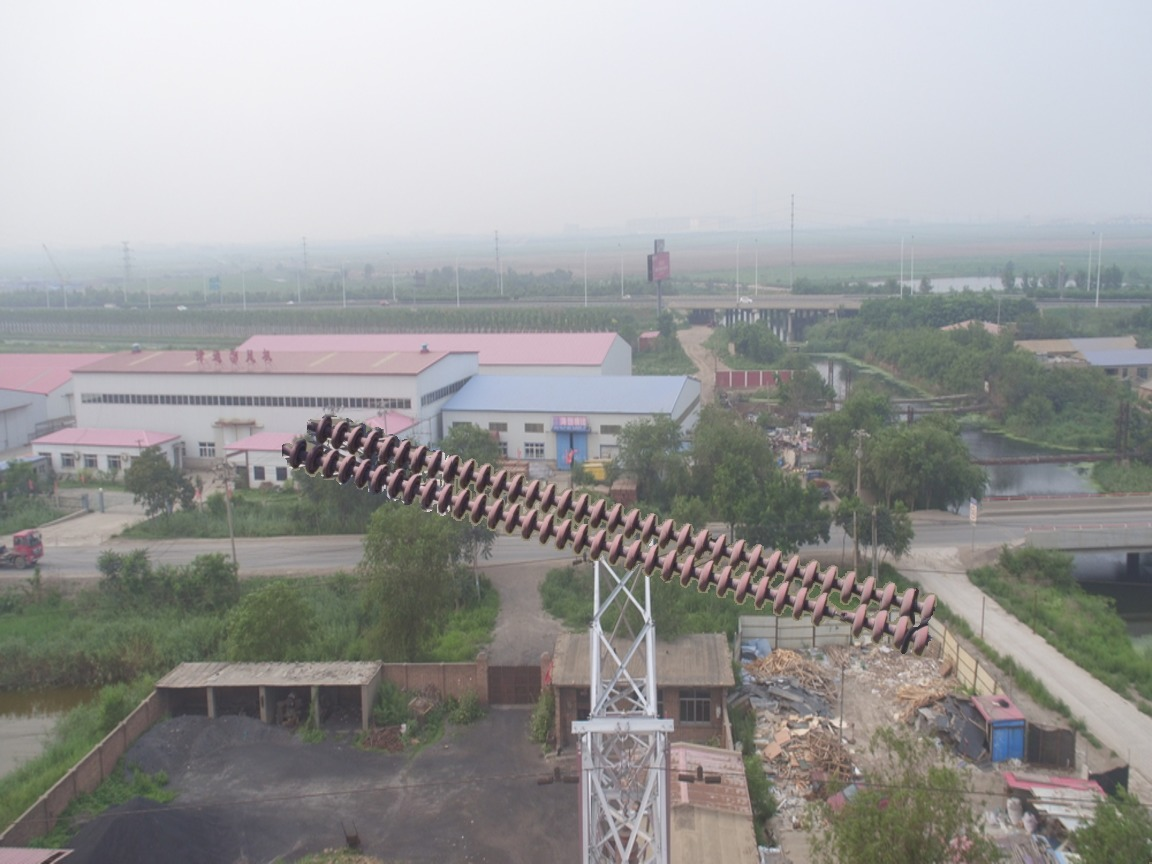defect: (806, 588, 872, 639)
